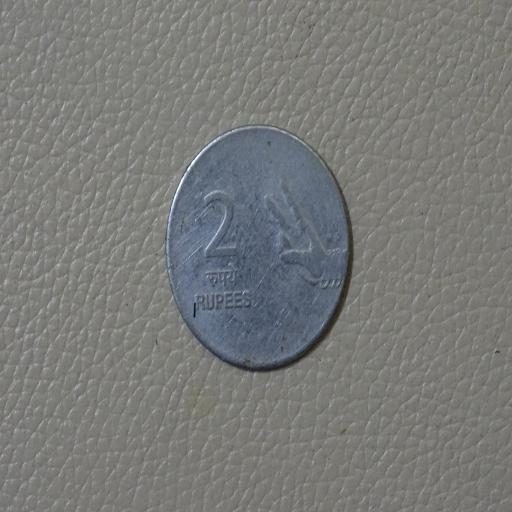rupee2: (163, 127, 352, 370)
